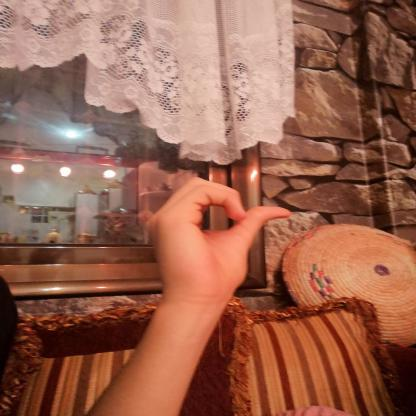WAW: (130, 168, 304, 310)
